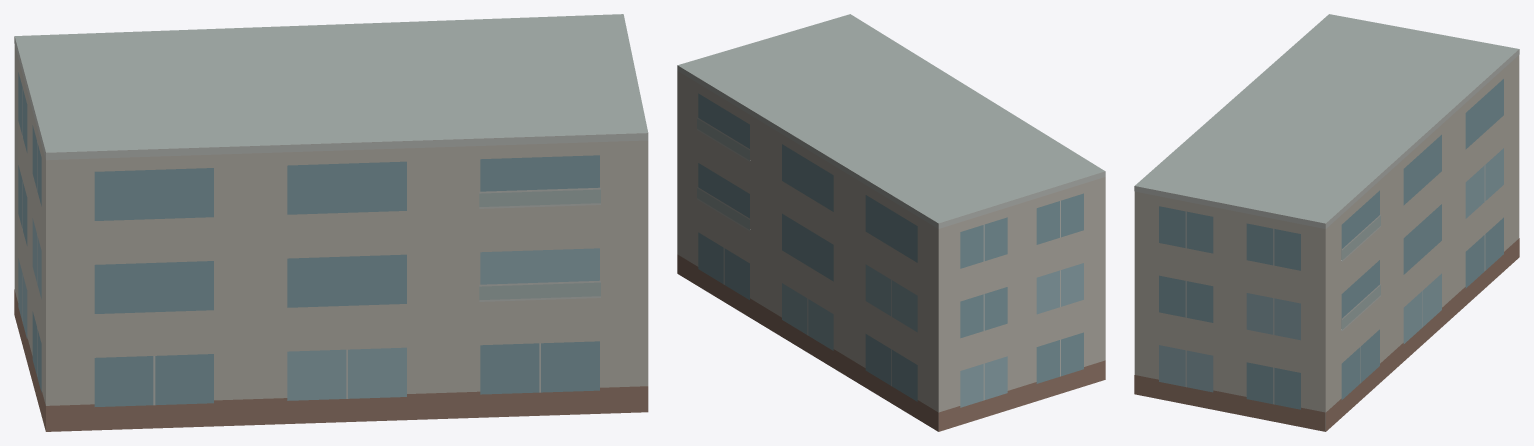
File: survey-upis-32899708.glb
3 renders of one model, left to right at view 1: azimuth 30°, elevation 25°; view 2: azimuth 150°, elevation 25°; view 3: azimuth 270°, elevation 25°, orthographic. The views are drawn at different scales.
Parts seen in each view (by area): view 1: survey-upis-32899708.tmp; view 2: survey-upis-32899708.tmp; view 3: survey-upis-32899708.tmp.
Part boxes in pixels (bbox=[...]): survey-upis-32899708.tmp: bbox=[14, 14, 648, 431]; survey-upis-32899708.tmp: bbox=[677, 14, 1105, 431]; survey-upis-32899708.tmp: bbox=[1134, 14, 1519, 431].
Bounding box in the file's own units: 19.75 × 9.15 × 15.33.
